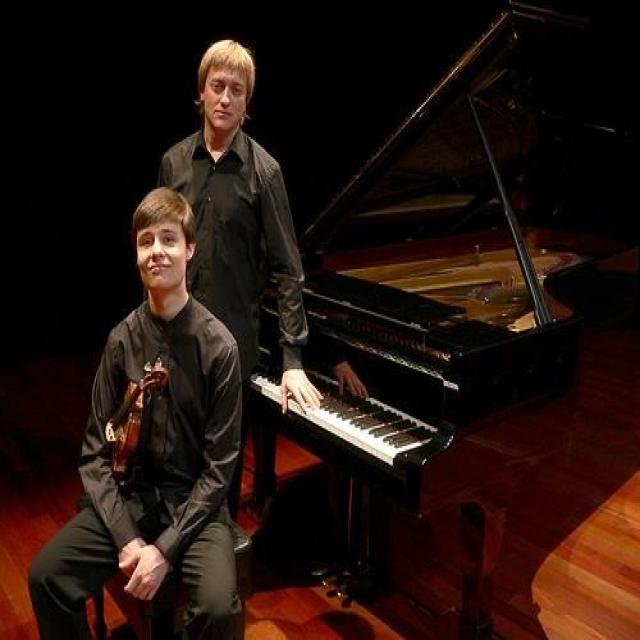violin: (104, 359, 170, 474)
